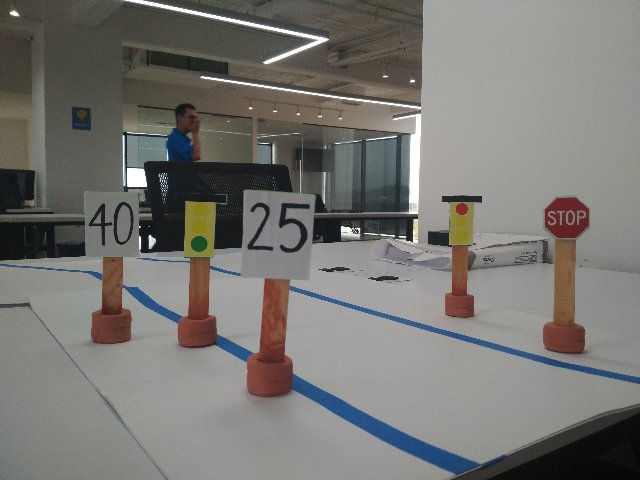Green Traffic Light: (174, 192, 226, 261)
Red Traffic Light: (438, 193, 484, 249)
Speed Limit 25: (237, 187, 317, 282)
Speed Limit 40: (81, 187, 142, 258)
Stop Sign: (538, 194, 593, 242)
